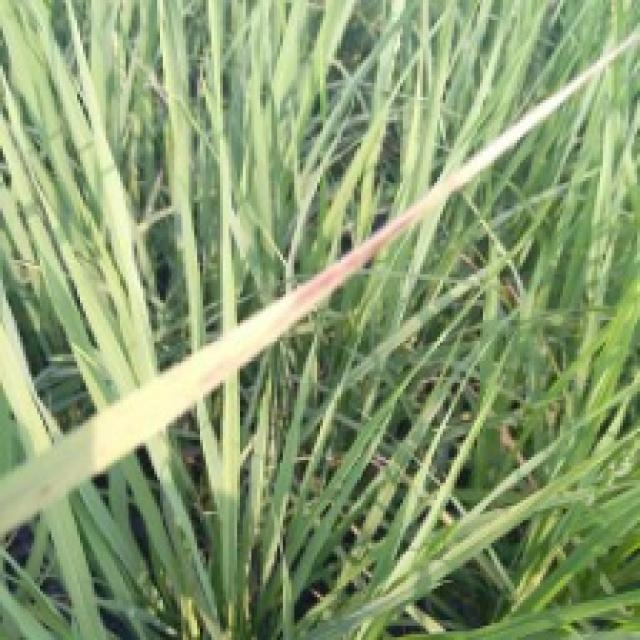Rice___Bacterial_Leaf_Blight: (0, 26, 637, 543)
